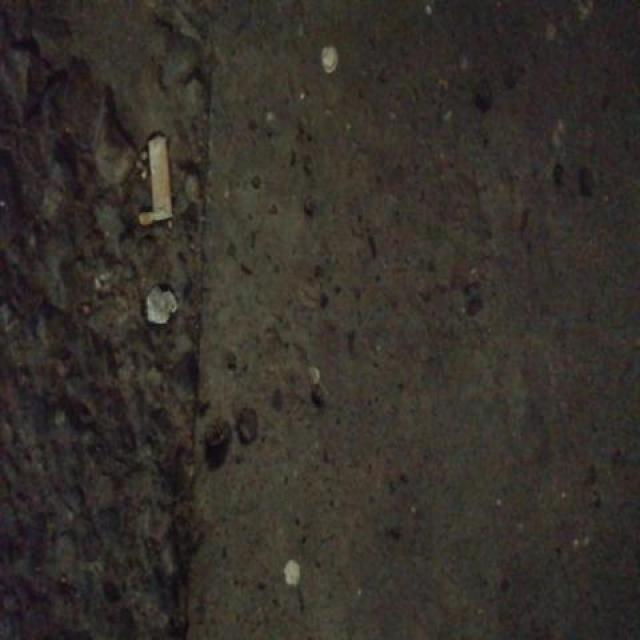non-organic waste: (143, 126, 177, 230)
